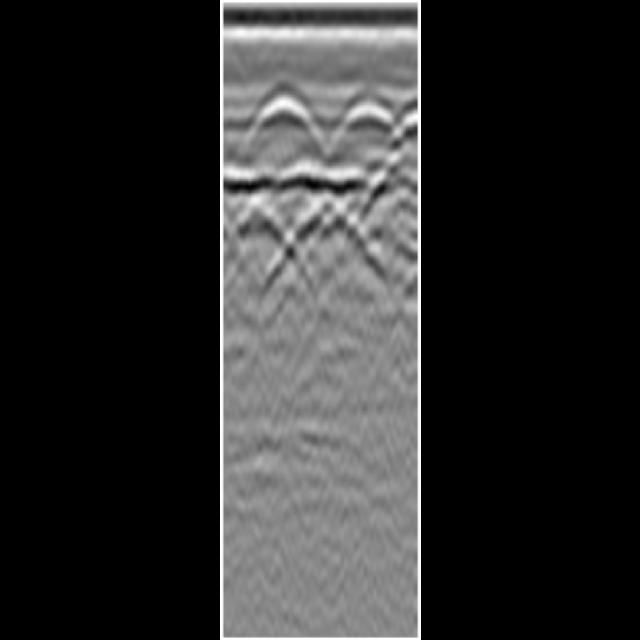hyperbola: (248, 86, 314, 142), (339, 98, 393, 152)
